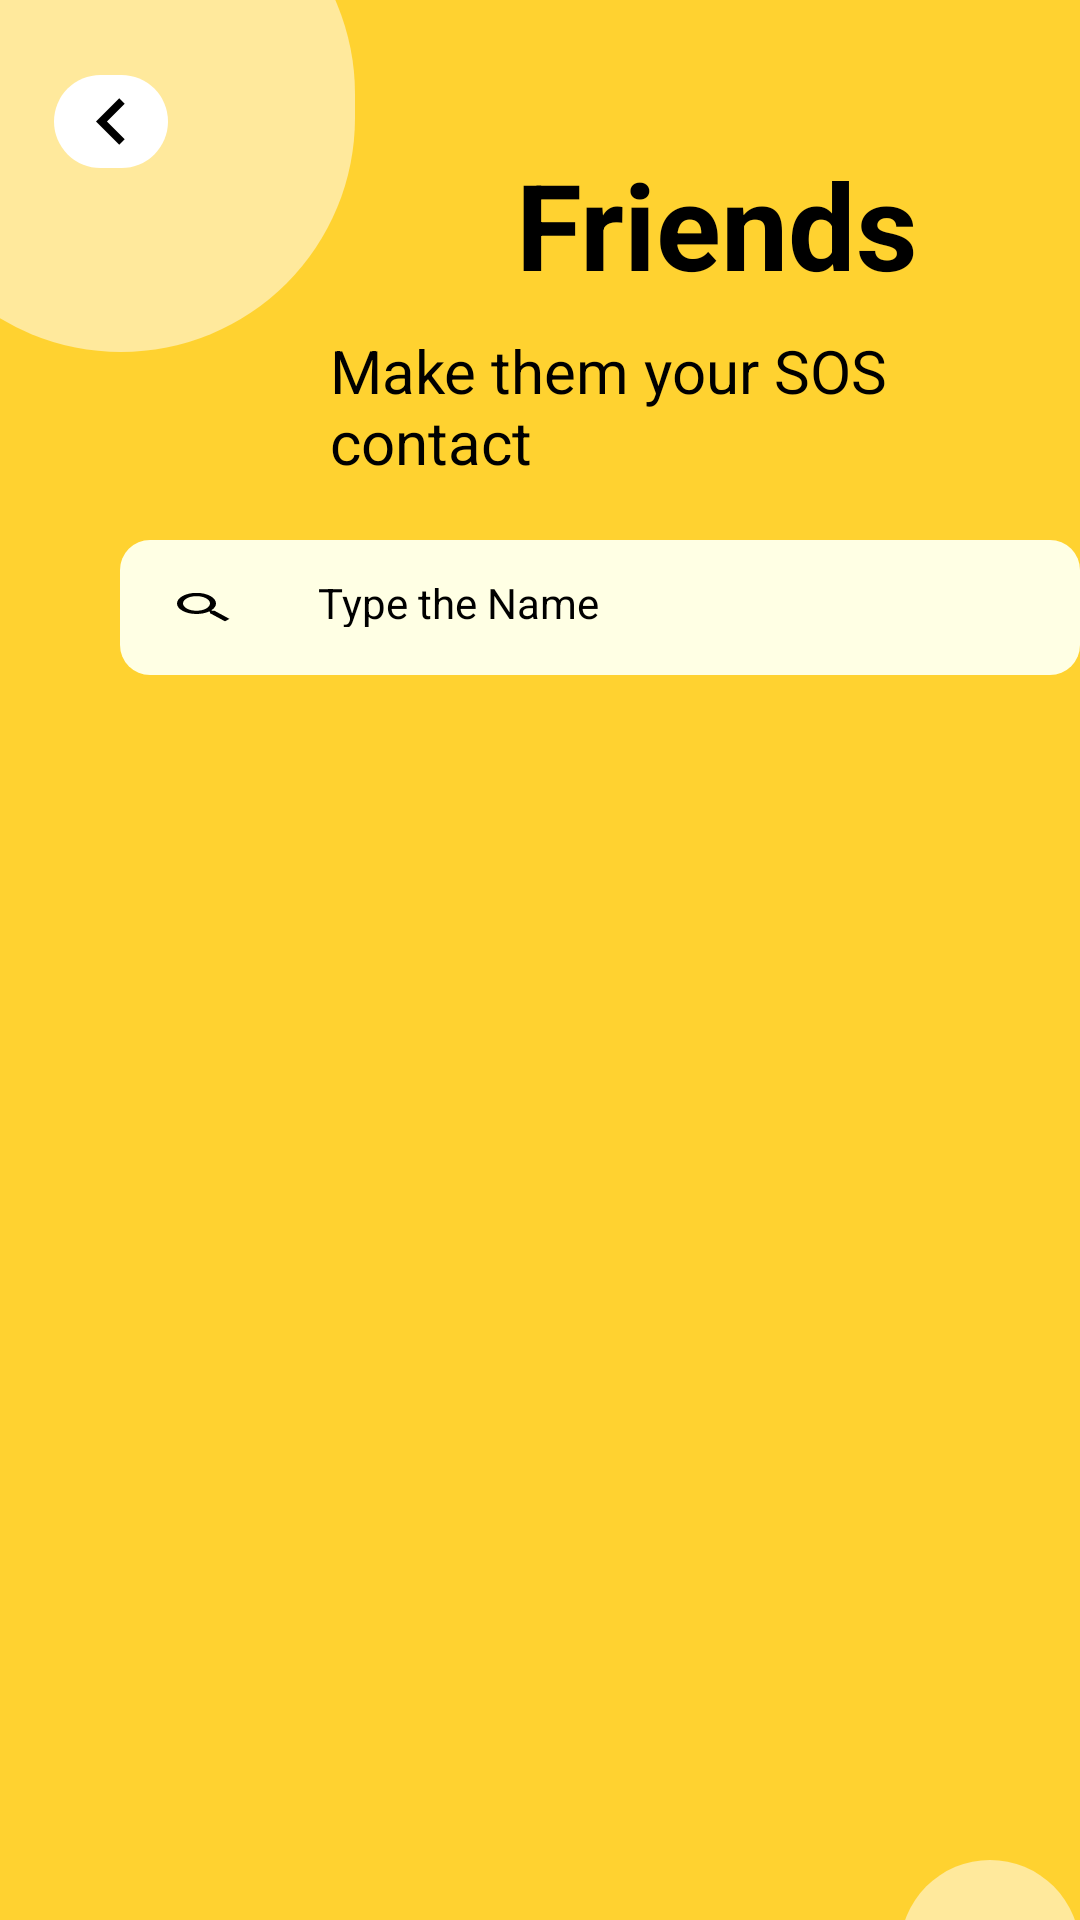

Point at icon controls on the screen. Image size 1080px×1920px, points as (x,y).
arrow: (111,121)
search: (203,607)
